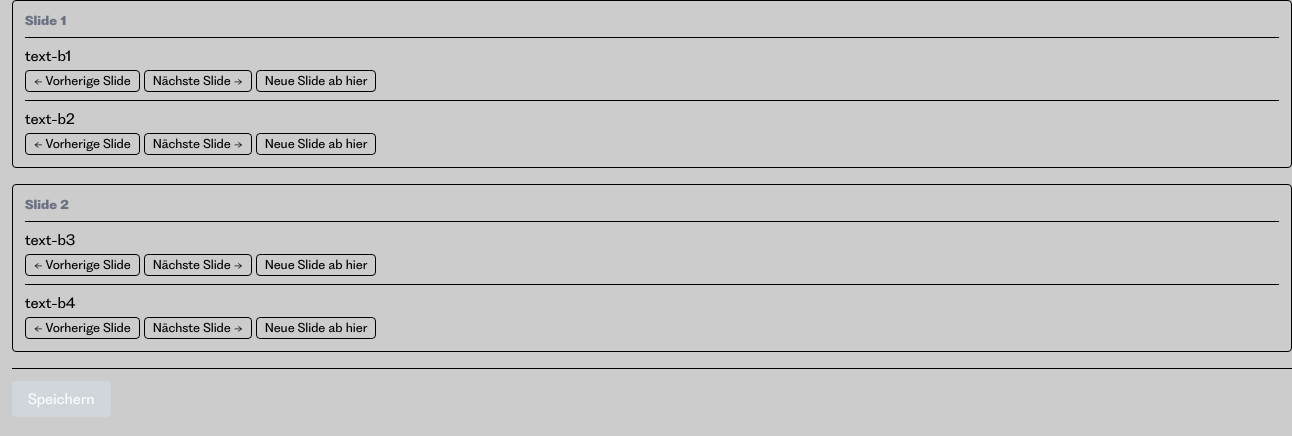
Test: LayoutEditor › C-7: Save 200 → refetchKey++ → re-fetch with new layoutVersion, isDirty=false
The width and height of the screenshot is (1292, 436).
Expected: the text "text-b1" is shown, [25,47,71,65]
Make an edit so save is enabled.
What coordinates should you click on to do the following:
click the button "Nächste Slide →" below "text-b1"
I would click on:
 (198, 81)
Its box is [144,70,252,92].
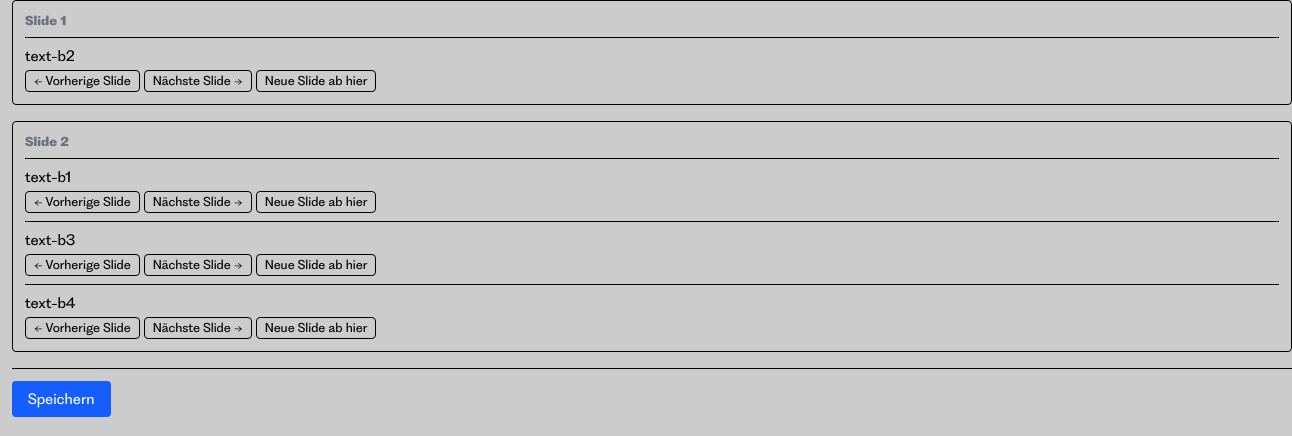
Expected: the button "Speichern" is enabled
What coordinates should you click on to do the following:
click the button "Speichern"
I would click on:
 (61, 399)
Its box is [12,381,110,417].
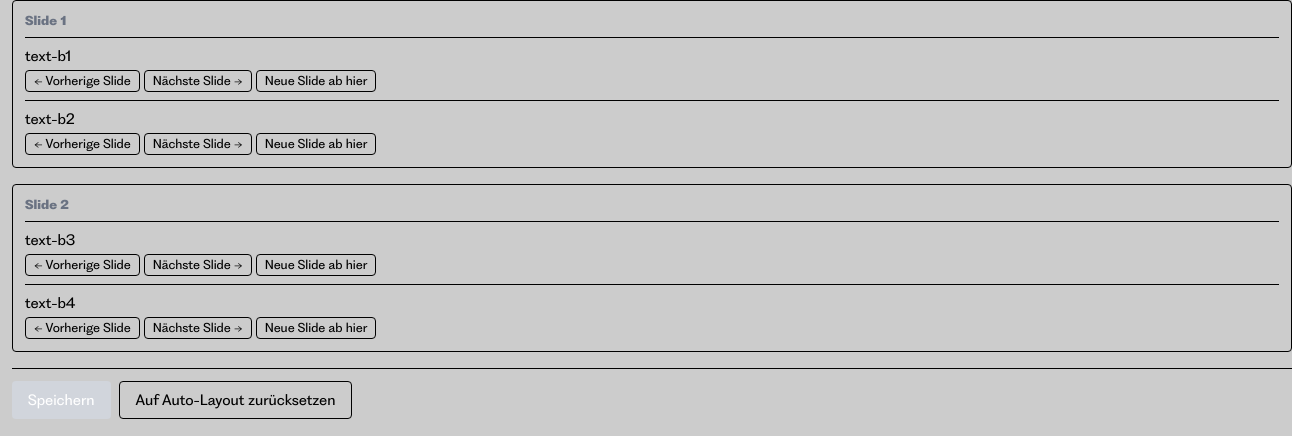
Expected: the button "Auf Auto-Layout zurücksetzen" is shown, [118,381,352,419]
Expected: the button "Speichern" is disabled, [12,381,110,419]
